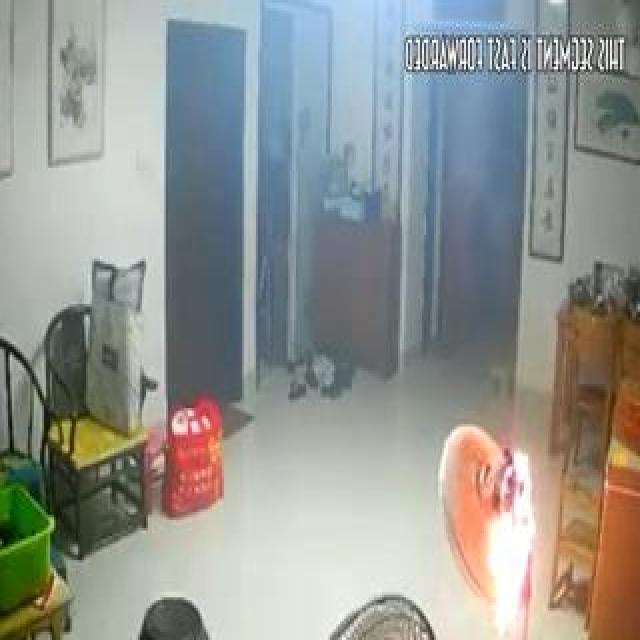Fire: (463, 373, 541, 627)
